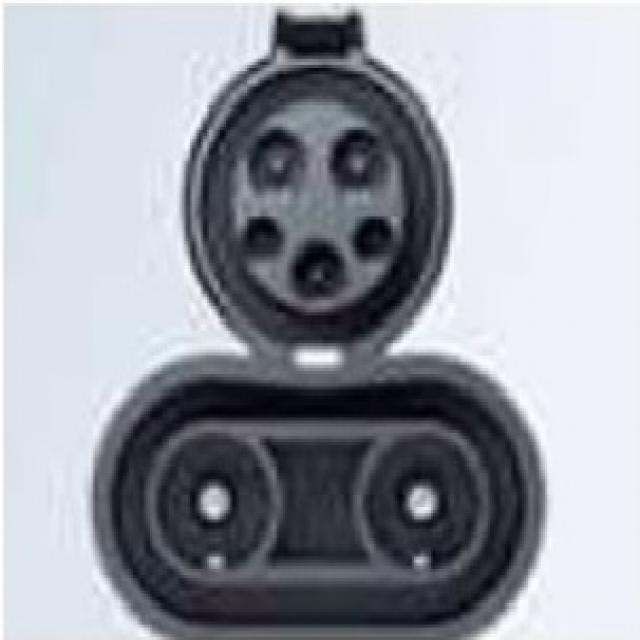CCS1: (98, 74, 534, 640)
